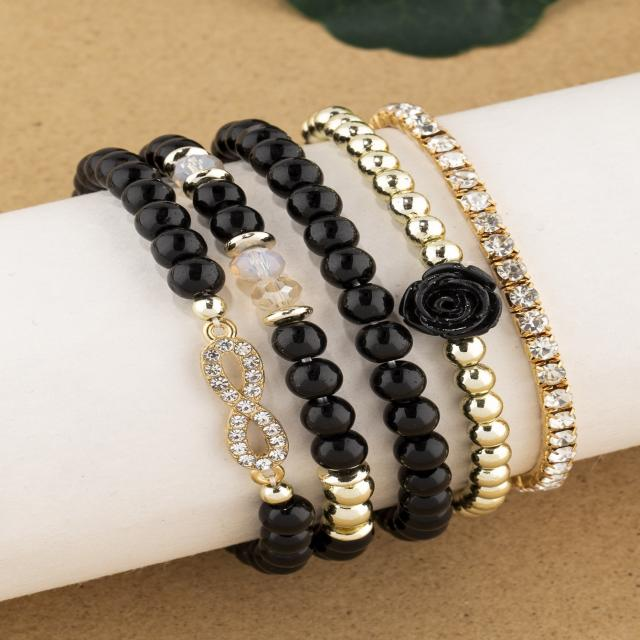bracelet: (37, 64, 640, 578)
